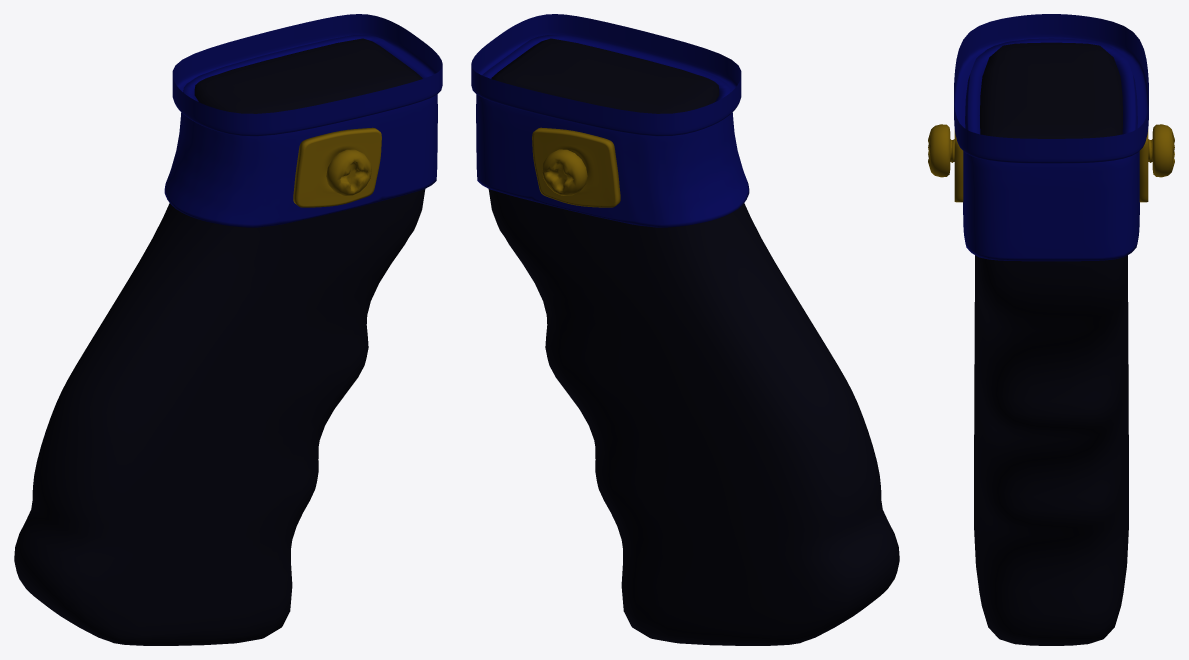
The model's file is grip_05.fbx.
3 renders of one model, left to right at view 1: azimuth 30°, elevation 25°; view 2: azimuth 150°, elevation 25°; view 3: azimuth 270°, elevation 25°, orthographic. The views are drawn at different scales.
Parts seen in each view (by area): view 1: Plane.082; view 2: Plane.082; view 3: Plane.082.
Boxes of the visible parts, left/top/right/bottom form: Plane.082: left=14, top=14, right=442, bottom=645; Plane.082: left=471, top=14, right=899, bottom=645; Plane.082: left=928, top=14, right=1174, bottom=645.
Size of the model in its own units: 32.1 by 42.58 by 15.96.
